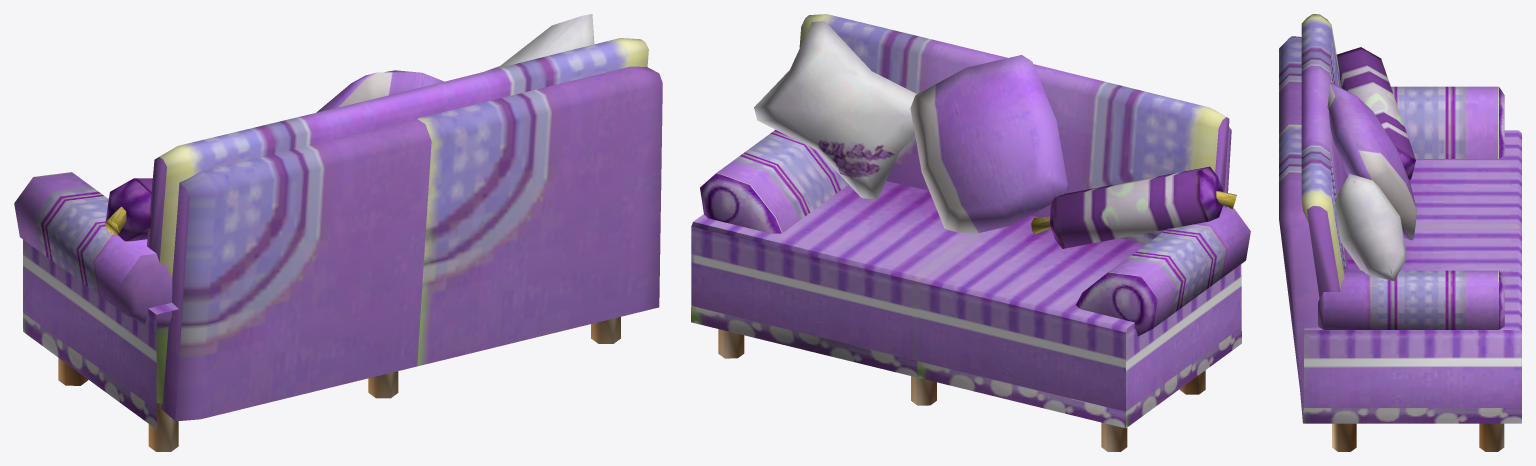
File: furni_0200512_03.FBX
The picture shows the model from 3 angles, left to right: view 1: azimuth 30°, elevation 25°; view 2: azimuth 150°, elevation 25°; view 3: azimuth 270°, elevation 25°; orthographic projection. The views are drawn at different scales.
Parts seen in each view (by area): view 1: furni_0200512_03; view 2: furni_0200512_03; view 3: furni_0200512_03.
Boxes of the visible parts, bbox=[...] form: furni_0200512_03: bbox=[14, 14, 662, 451]; furni_0200512_03: bbox=[691, 14, 1250, 451]; furni_0200512_03: bbox=[1279, 14, 1521, 451].
Size of the model in its own units: 159 by 94.22 by 76.9.
1 material, 1 textured.
